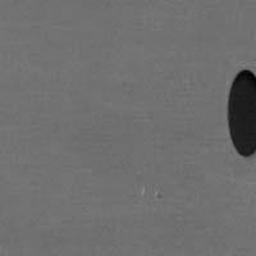Punching: (228, 68, 256, 157)
